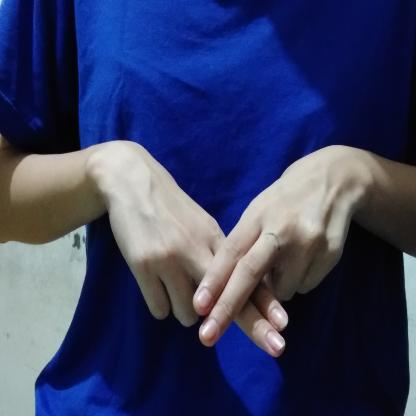father: (81, 132, 383, 366)
